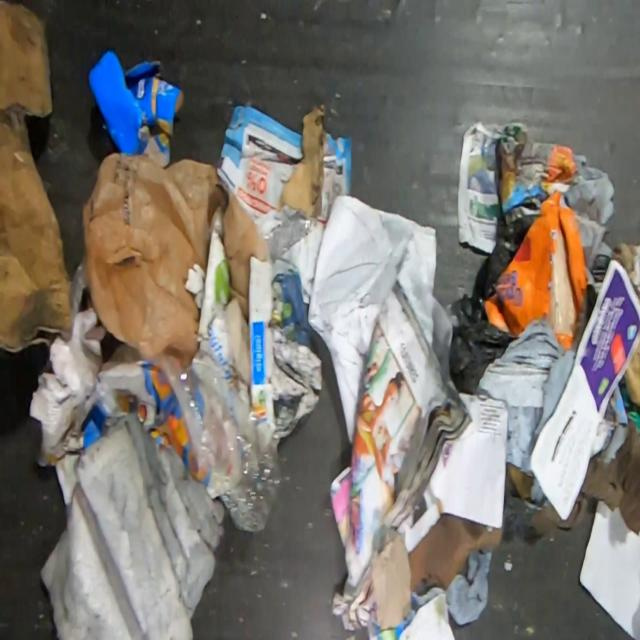cardboard: (0, 0, 73, 349), (483, 189, 587, 351), (87, 48, 186, 167)
soft_plastic: (81, 152, 220, 370), (163, 339, 284, 532), (449, 214, 535, 394), (263, 209, 313, 264)
